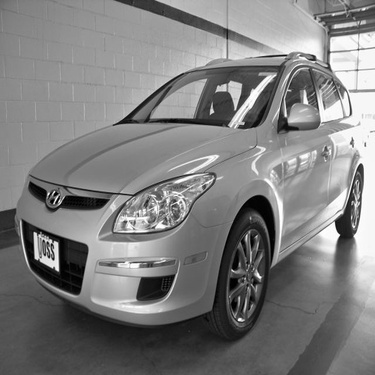car: (12, 46, 364, 344)
